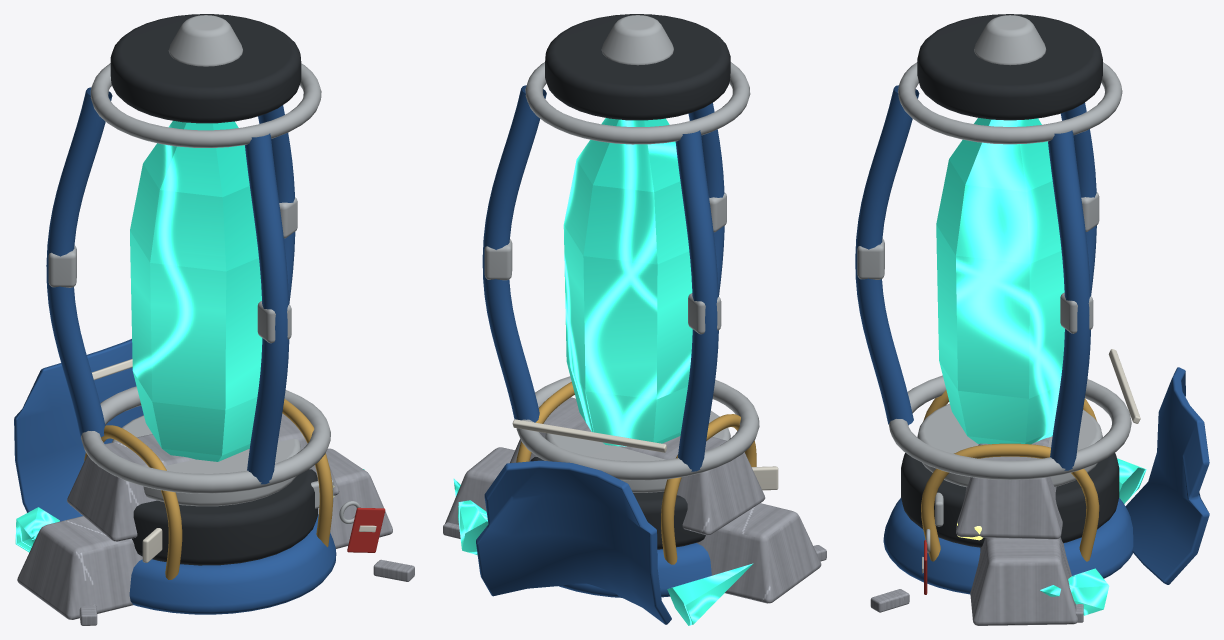
Rendered from material-drops.glb.
3 views of the same model, side by side, from view 1: azimuth 30°, elevation 25°; view 2: azimuth 150°, elevation 25°; view 3: azimuth 270°, elevation 25° (orthographic). The views are drawn at different scales.
Parts seen in each view (by area): view 1: Energy / faceted crystal, Energy / upper cap, Alloy / bent cobalt armour fragment, Energy / foot, Energy / lower cap, Energy / cobalt cage rib.002, Alloy / ingot, Energy / cobalt cage rib.001, Energy / lower ring, Alloy / top ingot, Energy / upper ring, Energy / lower collar (+11 smaller); view 2: Energy / faceted crystal, Alloy / bent cobalt armour fragment, Energy / upper cap, Energy / cobalt cage rib.001, Energy / cobalt cage rib, Alloy / ingot, Alloy / top ingot, Energy / lower ring, Energy / upper ring, Energy / upper finial, Energy / foot, Energy / lower collar (+11 smaller); view 3: Energy / faceted crystal, Energy / upper cap, Alloy / bent cobalt armour fragment, Energy / cobalt cage rib, Alloy / ingot.001, Energy / cobalt cage rib.002, Energy / foot, Energy / lower ring, Alloy / top ingot, Energy / lower cap, Energy / upper ring, Alloy / amber strap.001 (+10 smaller).
Boxes of the visible parts, box(x1,y1,x2,y2) form: Energy / faceted crystal: box(130, 120, 262, 461); Energy / upper cap: box(110, 14, 301, 123); Alloy / bent cobalt armour fragment: box(14, 339, 143, 521); Energy / foot: box(129, 514, 336, 614); Energy / lower cap: box(132, 469, 317, 565); Energy / cobalt cage rib.002: box(245, 133, 289, 484); Alloy / ingot: box(17, 516, 142, 619); Energy / cobalt cage rib.001: box(46, 87, 112, 437); Energy / lower ring: box(81, 386, 330, 493); Alloy / top ingot: box(67, 413, 339, 541); Energy / upper ring: box(90, 63, 321, 147); Energy / lower collar: box(112, 415, 300, 506); Energy / faceted crystal: box(563, 118, 692, 446); Alloy / bent cobalt armour fragment: box(476, 460, 671, 624); Energy / upper cap: box(545, 14, 730, 120); Energy / cobalt cage rib.001: box(675, 130, 718, 471); Energy / cobalt cage rib: box(482, 85, 546, 422); Alloy / ingot: box(696, 503, 821, 603); Alloy / top ingot: box(510, 397, 765, 535); Energy / lower ring: box(516, 376, 759, 480); Energy / upper ring: box(525, 62, 750, 144); Energy / upper finial: box(601, 15, 673, 65); Energy / foot: box(558, 543, 711, 597); Energy / lower collar: box(545, 411, 730, 492); Energy / faceted crystal: box(936, 118, 1064, 444); Energy / upper cap: box(917, 14, 1102, 120); Alloy / bent cobalt armour fragment: box(1125, 367, 1209, 584); Energy / cobalt cage rib: box(1048, 130, 1090, 470); Alloy / ingot.001: box(970, 537, 1077, 625); Energy / cobalt cage rib.002: box(855, 85, 919, 424); Energy / foot: box(883, 498, 1133, 594); Energy / lower ring: box(888, 375, 1131, 480); Alloy / top ingot: box(956, 437, 1062, 539); Energy / lower cap: box(901, 453, 1119, 547); Energy / upper ring: box(898, 62, 1122, 144); Alloy / amber strap.001: box(921, 443, 1099, 561).
Bounding box in the file's own units: 0.6952 × 1.08 × 0.6498.
9 materials, 2 textured.
